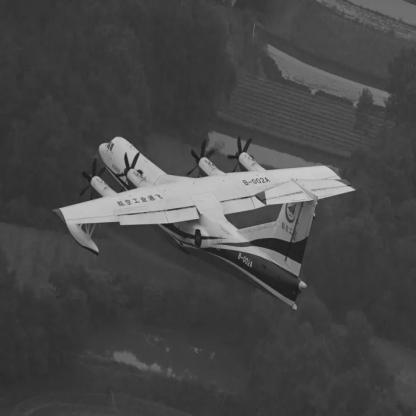AG600: (53, 137, 357, 312)
